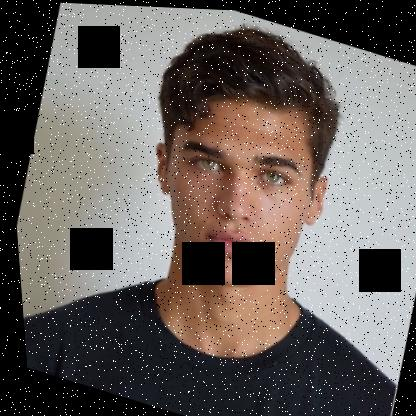Male: (119, 69, 348, 305)
